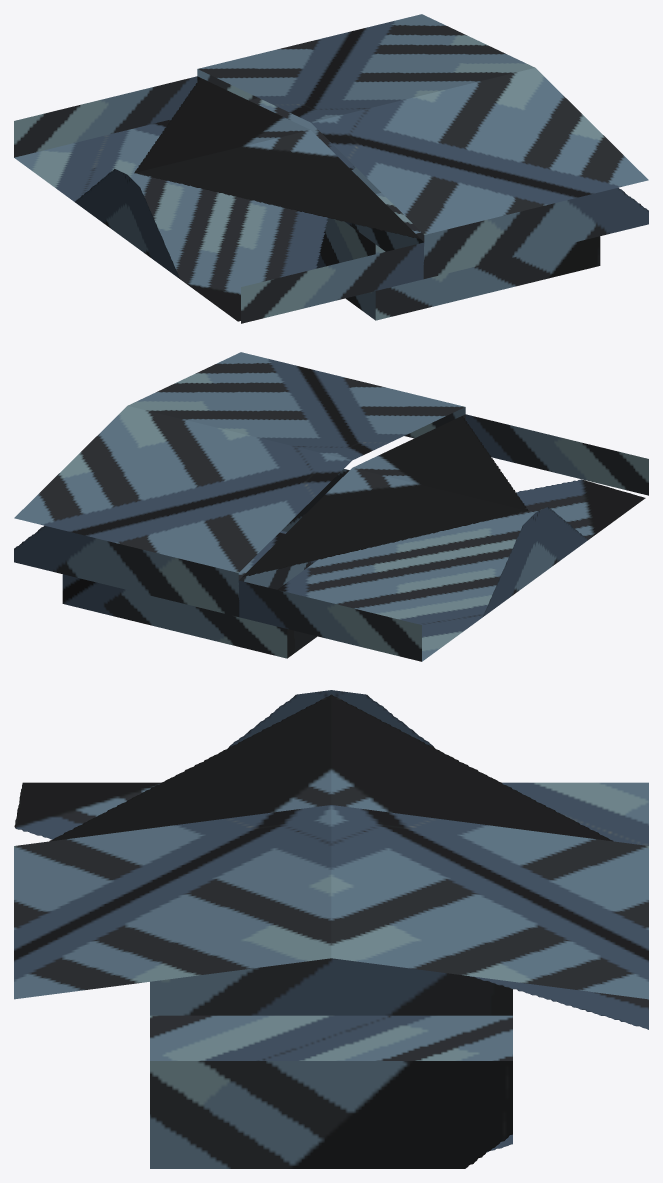
File: df11g_carport_centre_cooling_blind_lh.obj
3 views of the same model, one above another, from view 1: azimuth 30°, elevation 25°; view 2: azimuth 150°, elevation 25°; view 3: azimuth 270°, elevation 25° (orthographic). The views are drawn at different scales.
Parts seen in each view (by area): view 1: cube; view 2: cube; view 3: cube.
Boxes of the visible parts, <box> form: cube: <box>14,14,648,323</box>; cube: <box>14,352,648,661</box>; cube: <box>14,690,648,1168</box>.
Size of the model in its own units: 1.82 by 0.6406 by 1.75.
